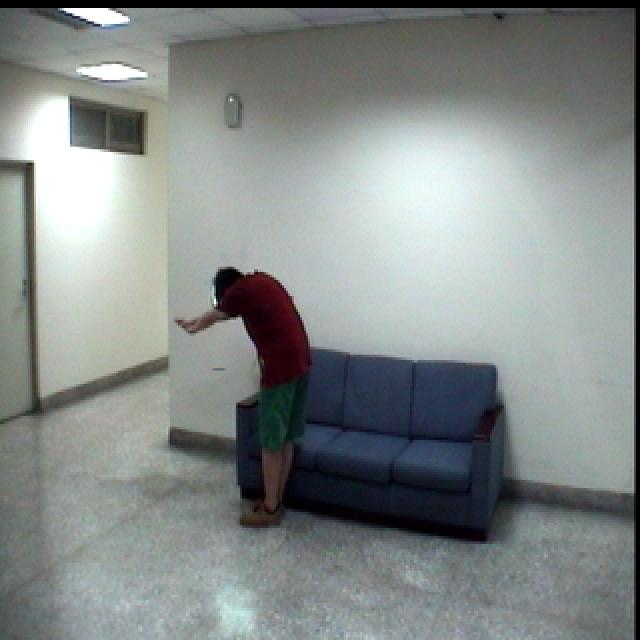bend: (181, 260, 318, 536)
